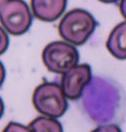L: (81, 74, 125, 125)
